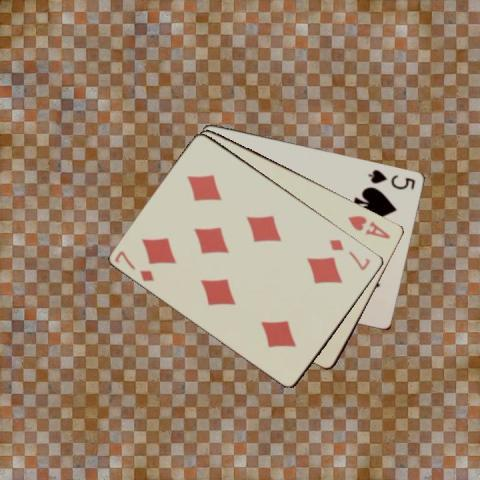5s: (365, 166, 417, 191)
7d: (327, 236, 372, 272), (112, 248, 156, 284)
Ah: (345, 212, 392, 241)
